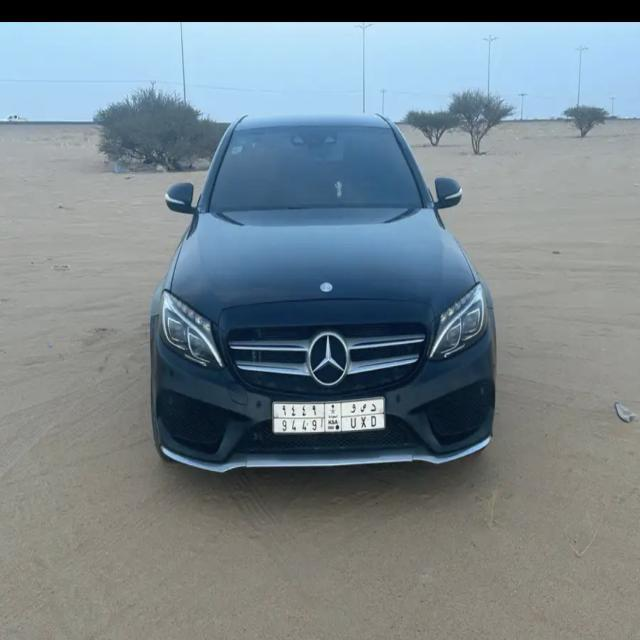license_plate: (274, 402, 392, 433)
